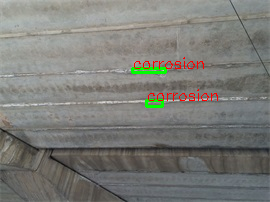corrosion: (132, 68, 165, 72), (146, 100, 162, 106)
